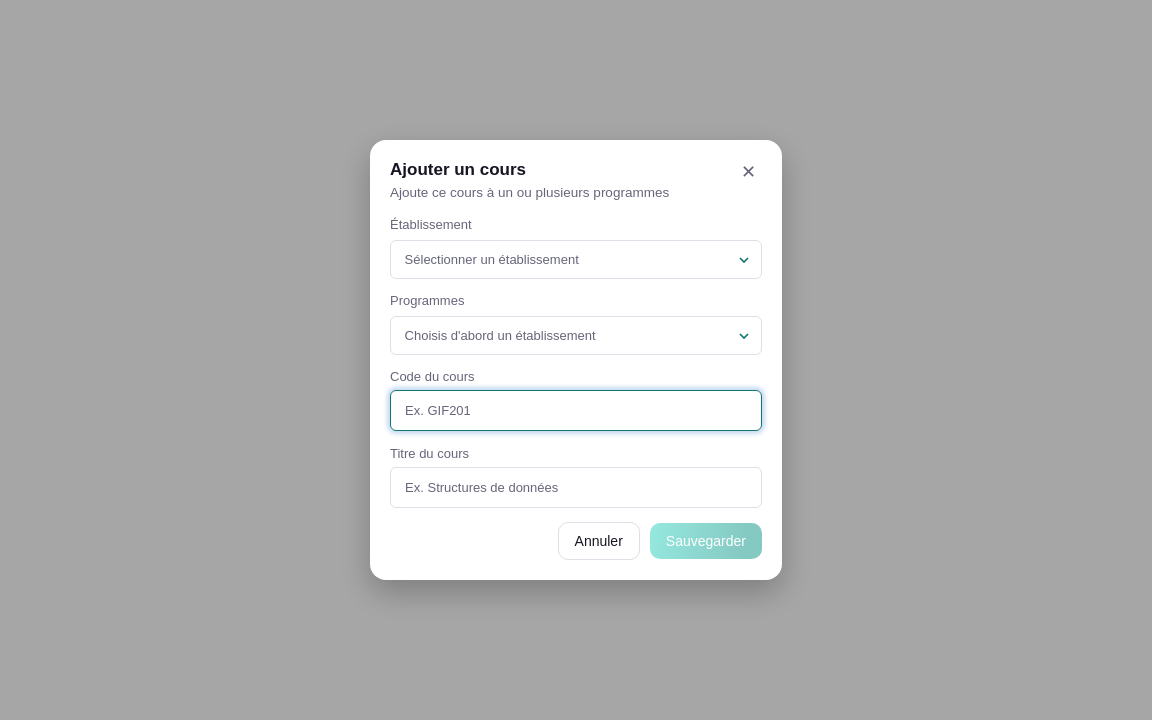
it: AddCoursePopup › le menu établissement liste, filtre et signale « aucun résultat »
Click the element showing "Sélectionner un établissement": point(576, 260) [390,240,762,279]
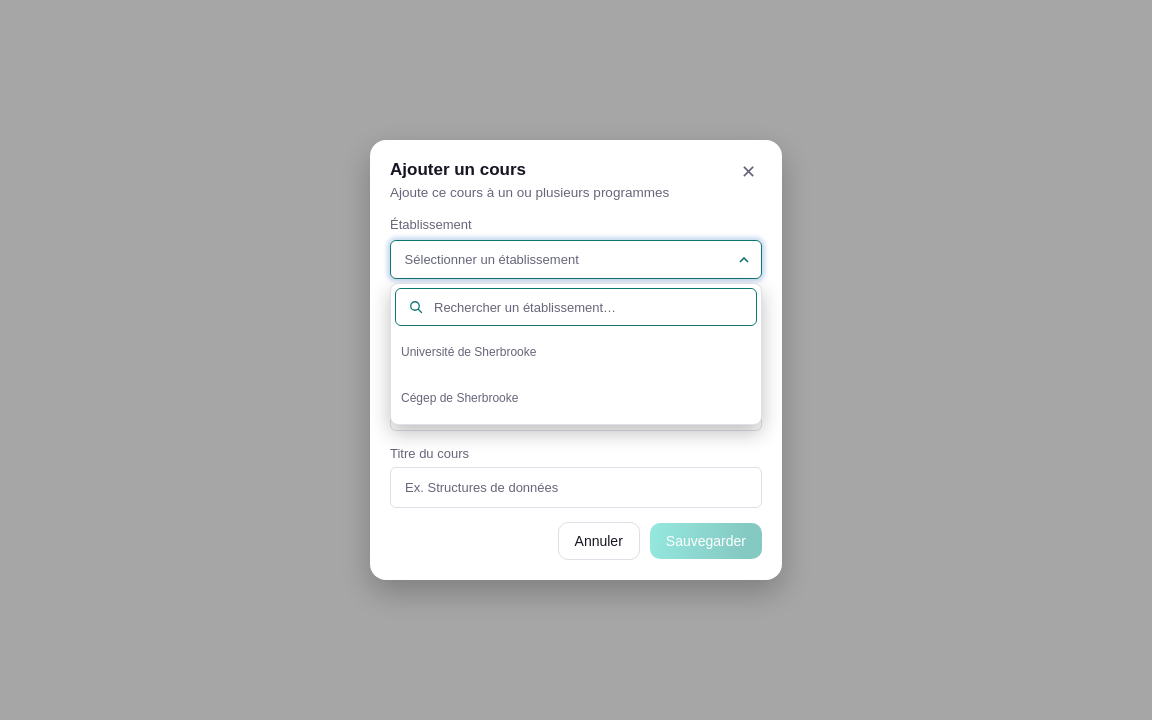
Now the text "Université de Sherbrooke" is shown, box [401,345,536,359]
Now the text "Cégep de Sherbrooke" is shown, box [401,391,518,405]
In the field with placeholder "Rechercher un établissement…": point(589, 307) [434,300,744,315], type "cégep"
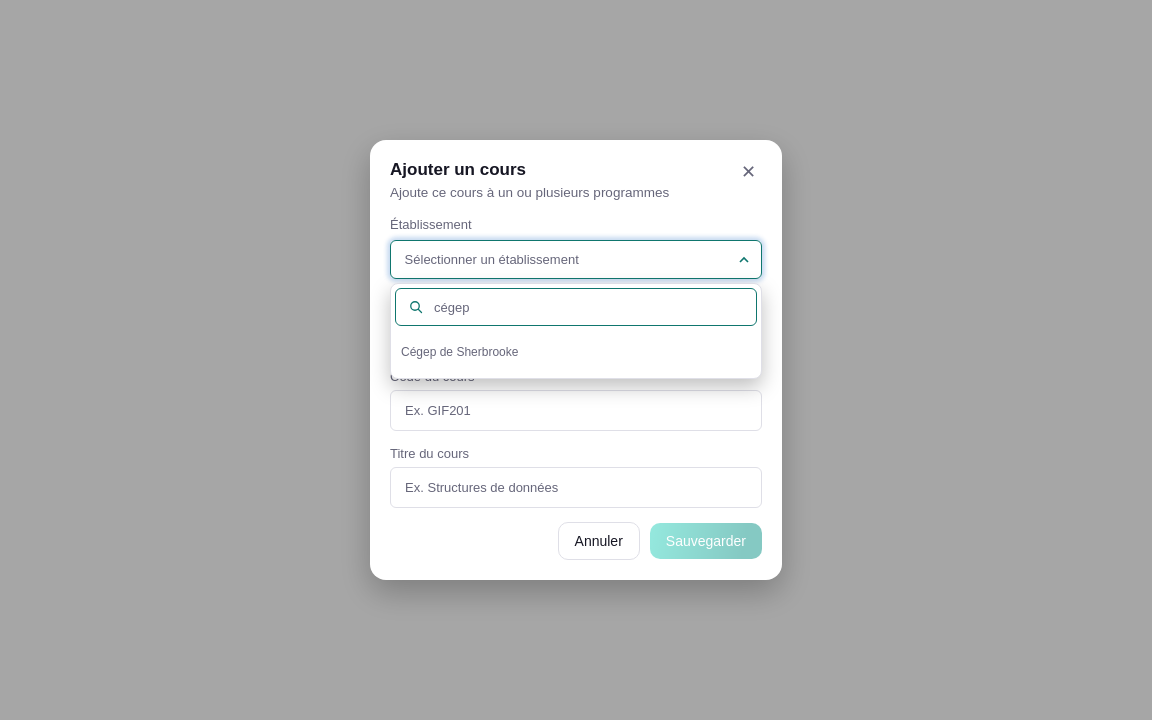
Now the text "Cégep de Sherbrooke" is shown, box [401,345,518,359]
Now the button "Université de Sherbrooke" is gone
Replace the text in the field with placeholder "Rechercher un établissement…" with "xyz": point(589, 307) [434,300,744,315]
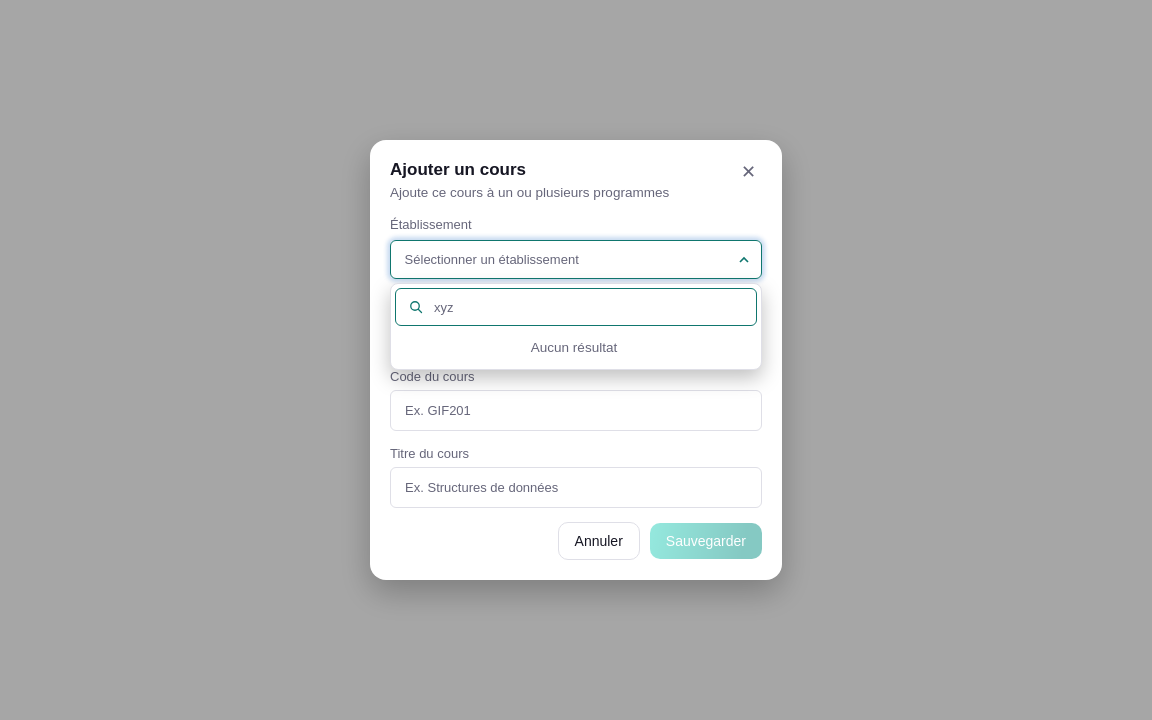
Now the list item "Aucun résultat" is shown, box [531,340,617,355]
